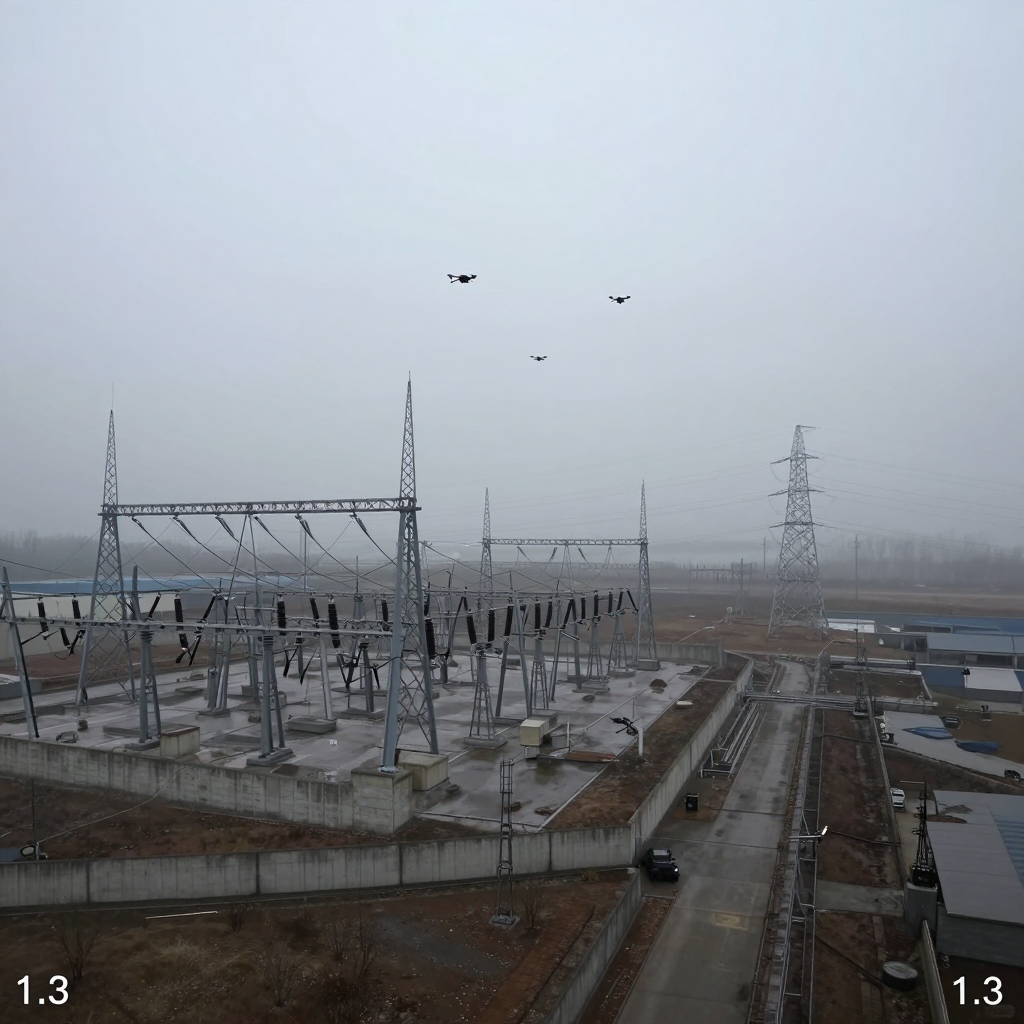drone: (447, 274, 477, 284), (609, 296, 631, 304), (530, 355, 547, 362)
